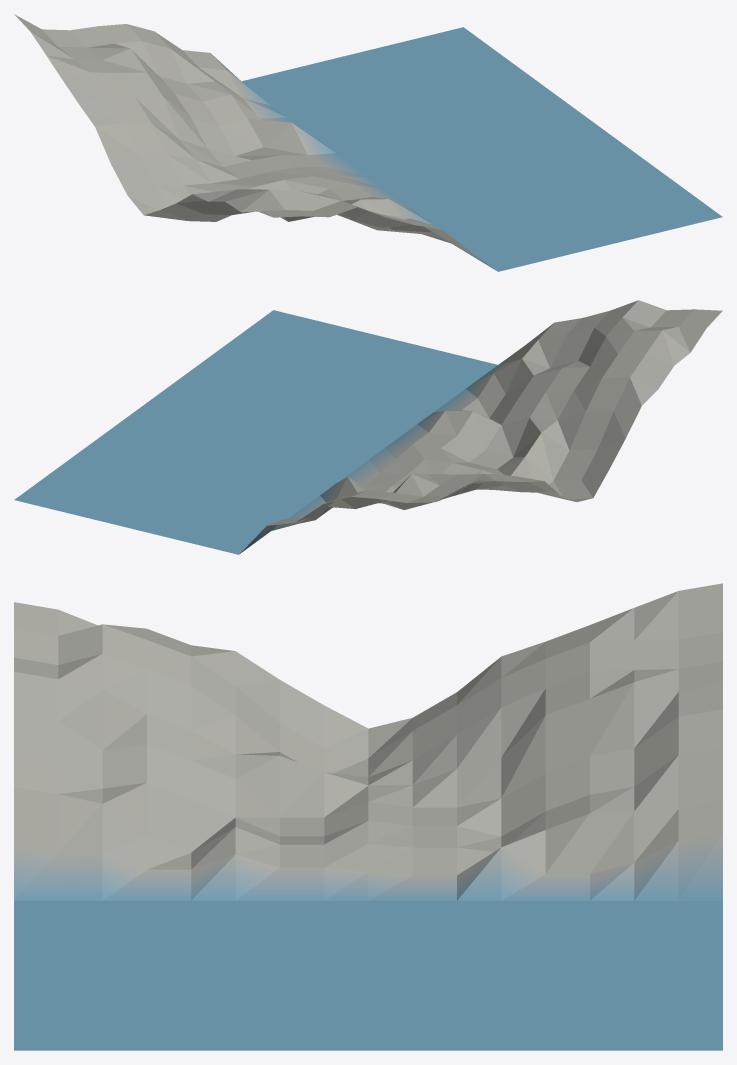
The picture shows the model from 3 angles, top to bottom: view 1: azimuth 30°, elevation 25°; view 2: azimuth 150°, elevation 25°; view 3: azimuth 270°, elevation 25°; orthographic projection. The views are drawn at different scales.
Size of the model in its own units: 32 by 8.35 by 32.
